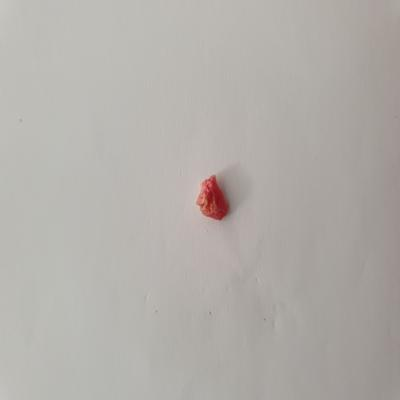plastic: (193, 171, 237, 225)
